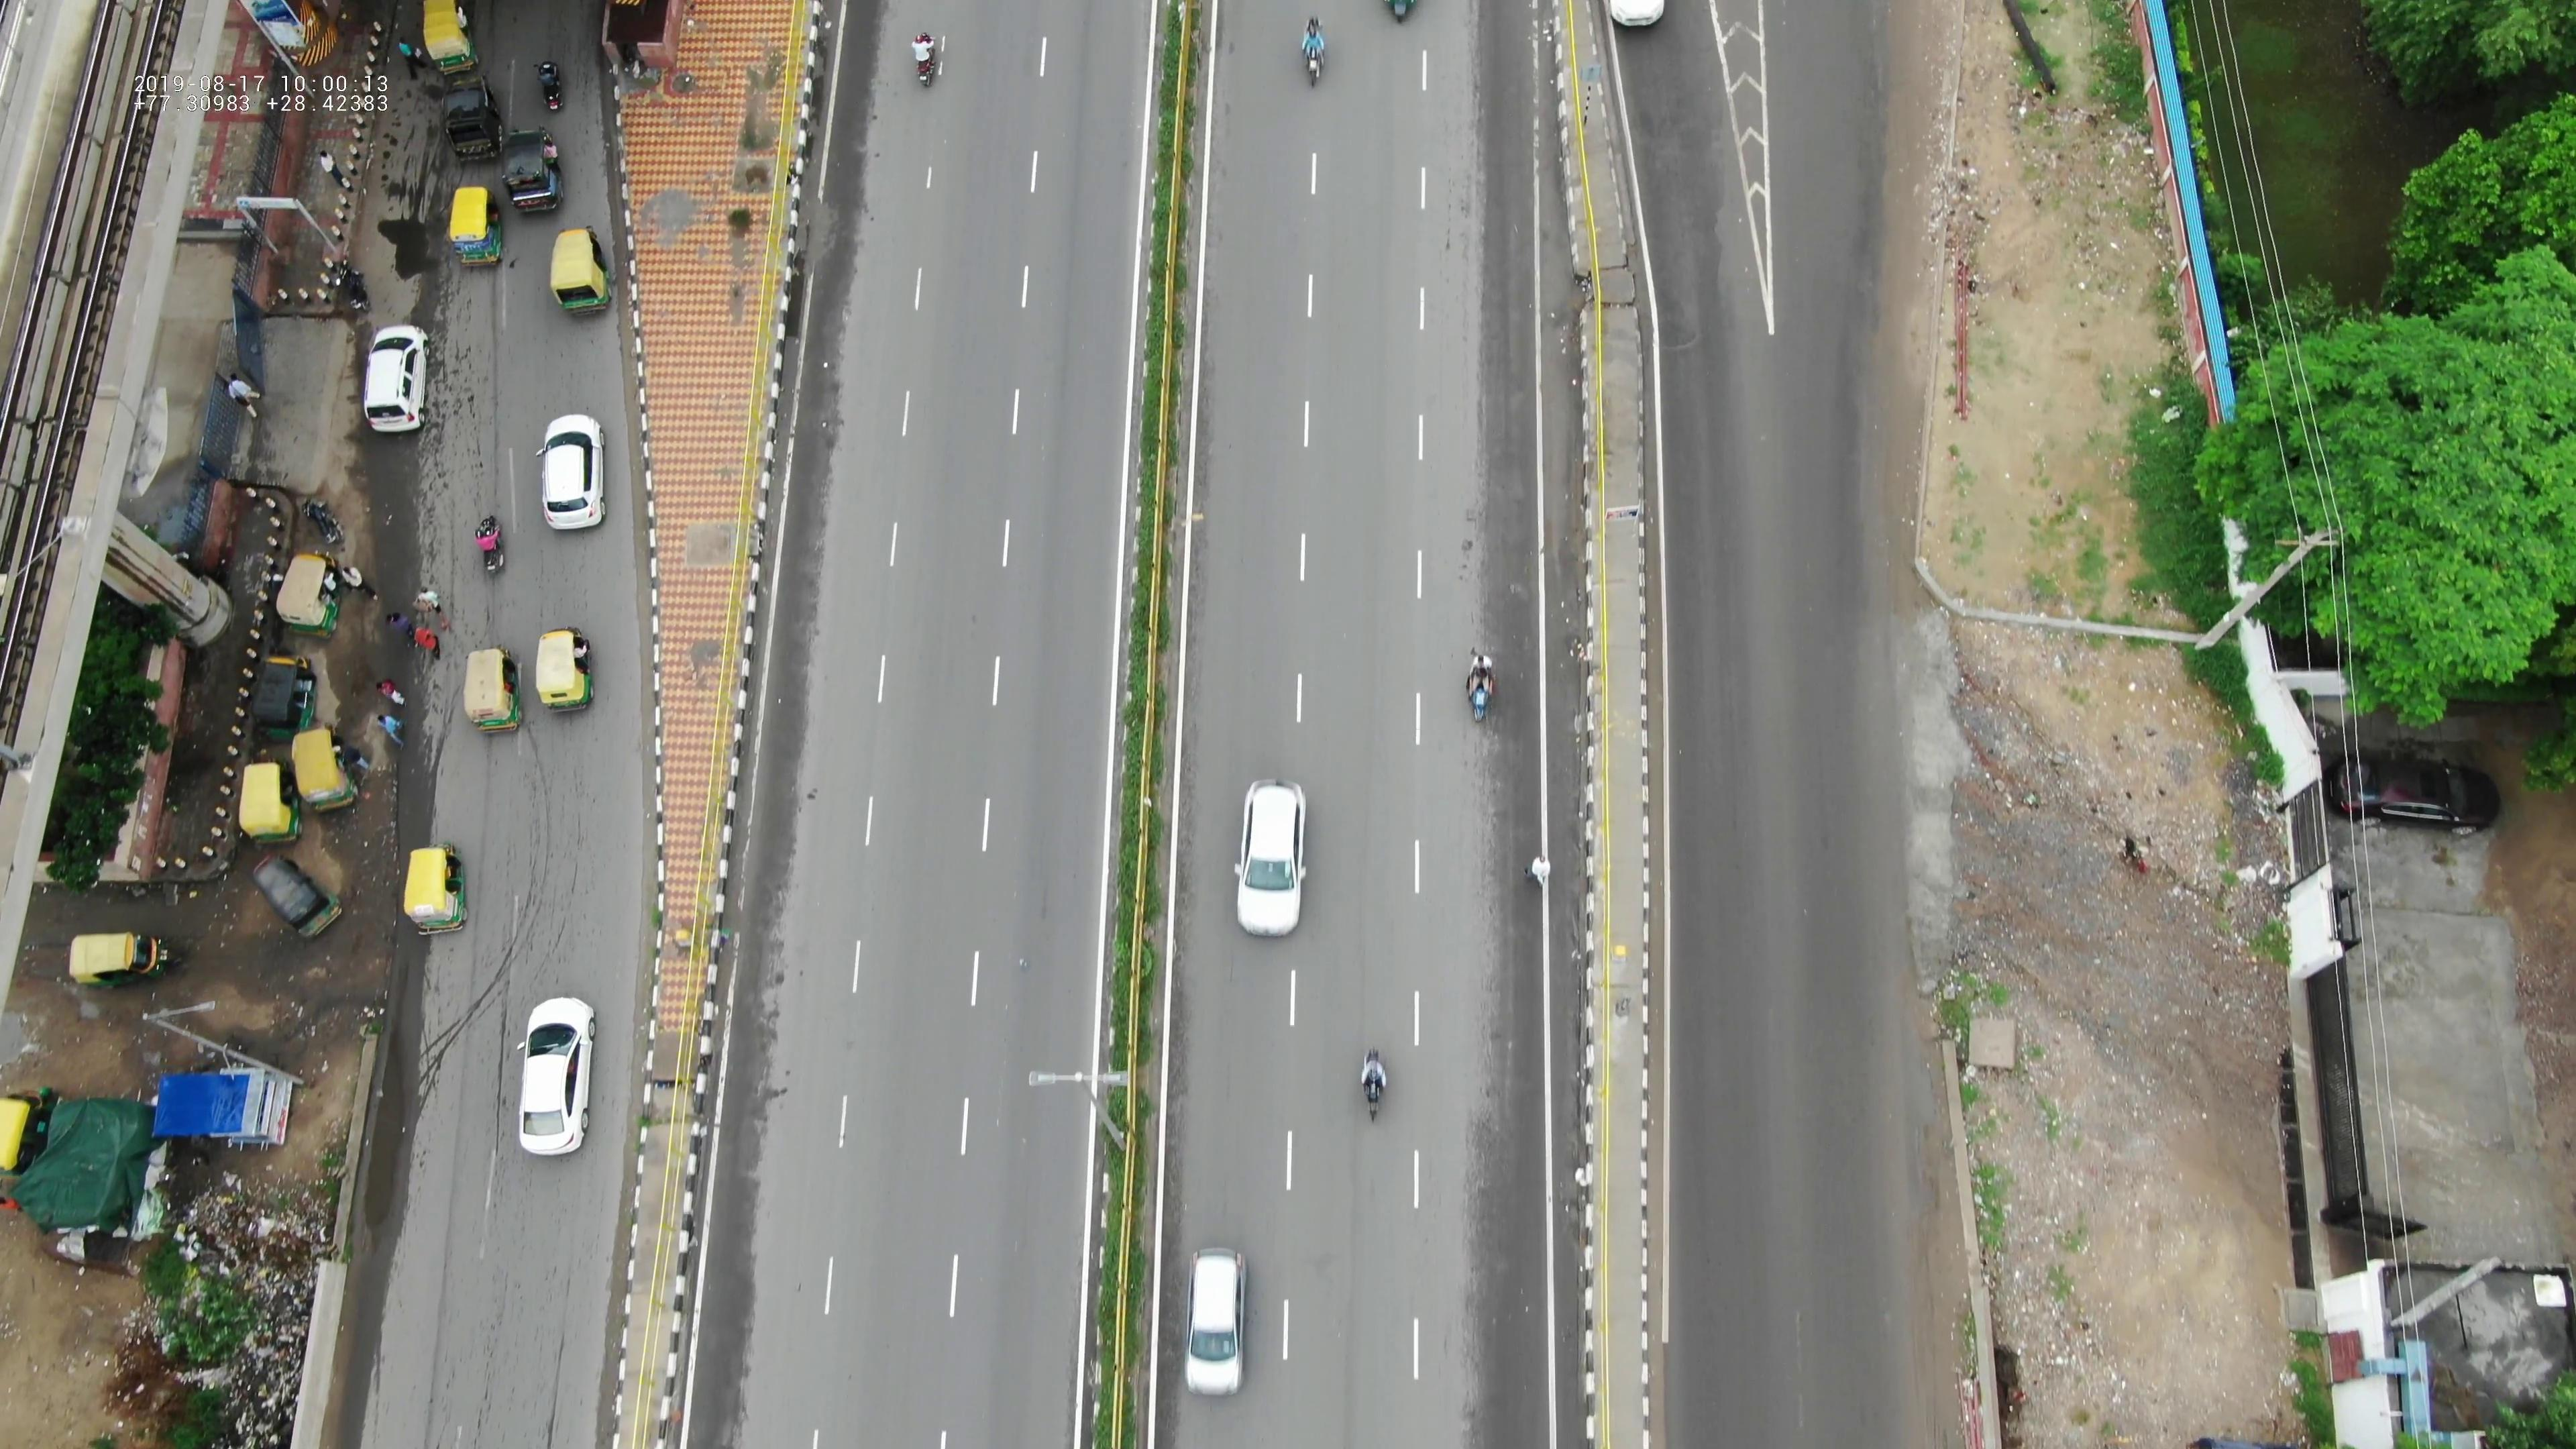Road_side_garbage: (129, 1214, 313, 1442)
Waterlogging: (368, 1062, 418, 1230)
